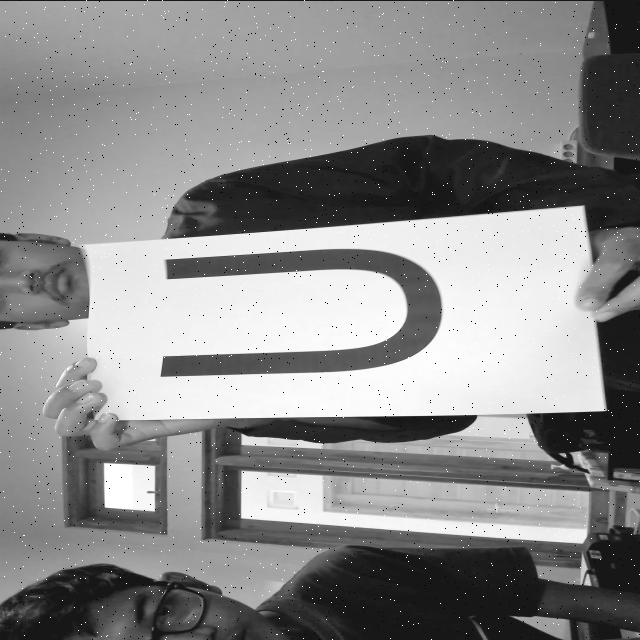u: (146, 229, 464, 389)
